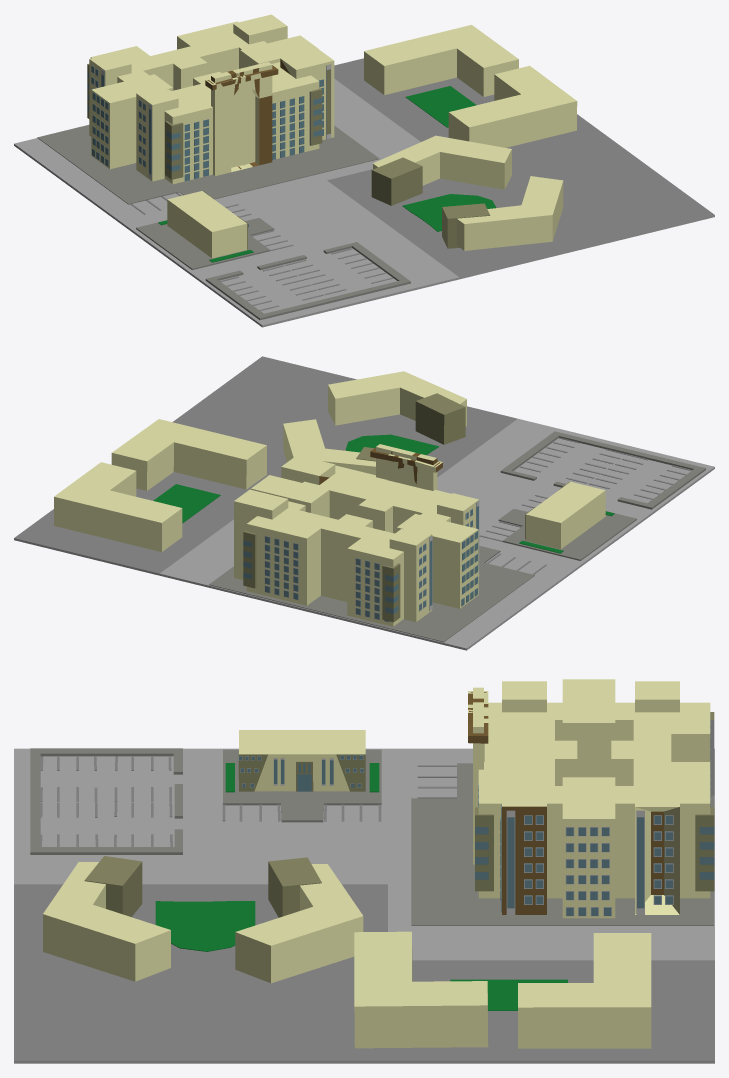
File: school 3.fbx
The picture shows the model from 3 angles, top to bottom: view 1: azimuth 30°, elevation 25°; view 2: azimuth 150°, elevation 25°; view 3: azimuth 270°, elevation 25°; orthographic projection. The views are drawn at different scales.
Visible parts, largest first — view 1: pCube1, polySurface1, pCube47, pCube48, pCube65, pCube5, pCube4, pCube3, pCube155, pCube14, pCube61, pCube60 (+4 smaller); view 2: pCube1, polySurface1, pCube48, pCube47, pCube5, pCube65, pCube4, pCube14, pCube3, pCube62, pCube60, pCube59 (+2 smaller); view 3: pCube1, polySurface1, pCube65, pCube48, pCube47, pCube5, pCube4, pCube3, pCube14, pCube59, pCube155, pCube62 (+8 smaller).
Part boxes in pixels (x1,y1,x2,y2): pCube1: (14, 58, 714, 327); polySurface1: (89, 14, 334, 184); pCube47: (364, 25, 518, 96); pCube48: (448, 65, 577, 147); pCube65: (37, 125, 379, 204); pCube5: (136, 191, 274, 269); pCube4: (456, 176, 563, 250); pCube3: (373, 135, 511, 189); pCube155: (40, 126, 355, 201); pCube14: (205, 242, 410, 320); pCube61: (371, 157, 422, 205); pCube60: (405, 86, 476, 127); pCube1: (14, 356, 714, 650); polySurface1: (234, 444, 479, 626); pCube48: (111, 419, 266, 490); pCube47: (54, 462, 182, 551); pCube5: (498, 481, 636, 560); pCube65: (209, 546, 534, 642); pCube4: (328, 371, 466, 426); pCube14: (500, 431, 705, 509); pCube3: (283, 419, 375, 475); pCube62: (415, 393, 465, 444); pCube60: (153, 484, 220, 523); pCube59: (345, 434, 439, 455); pCube1: (14, 748, 714, 1063); polySurface1: (468, 679, 710, 918); pCube65: (411, 763, 713, 925); pCube48: (354, 931, 488, 1048); pCube47: (518, 933, 651, 1048); pCube5: (223, 730, 381, 822); pCube4: (43, 862, 170, 981); pCube3: (235, 864, 363, 983); pCube14: (30, 748, 182, 854); pCube59: (155, 901, 255, 951); pCube155: (411, 798, 456, 924); pCube62: (84, 856, 142, 916).
Bounding box in the file's own units: 39.06 × 8.39 × 37.12.
